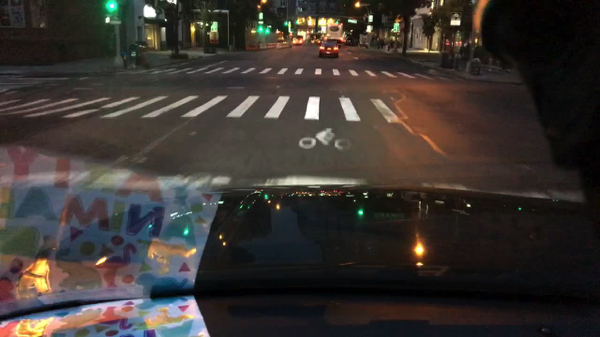car: (320, 39, 339, 59), (345, 36, 355, 46), (292, 36, 303, 45), (308, 37, 316, 44), (316, 38, 323, 45), (337, 39, 342, 48), (278, 39, 286, 44)
person: (376, 38, 380, 49), (381, 38, 384, 49)
traffic light: (106, 1, 117, 11), (258, 25, 263, 33), (105, 16, 110, 23), (336, 19, 339, 25), (285, 22, 288, 25)
traffic sign: (450, 12, 462, 26), (393, 23, 400, 33), (211, 21, 217, 32), (368, 15, 373, 22), (348, 20, 357, 23)
truck: (327, 24, 343, 40)
